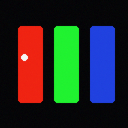0 point: (21, 54, 27, 60)
